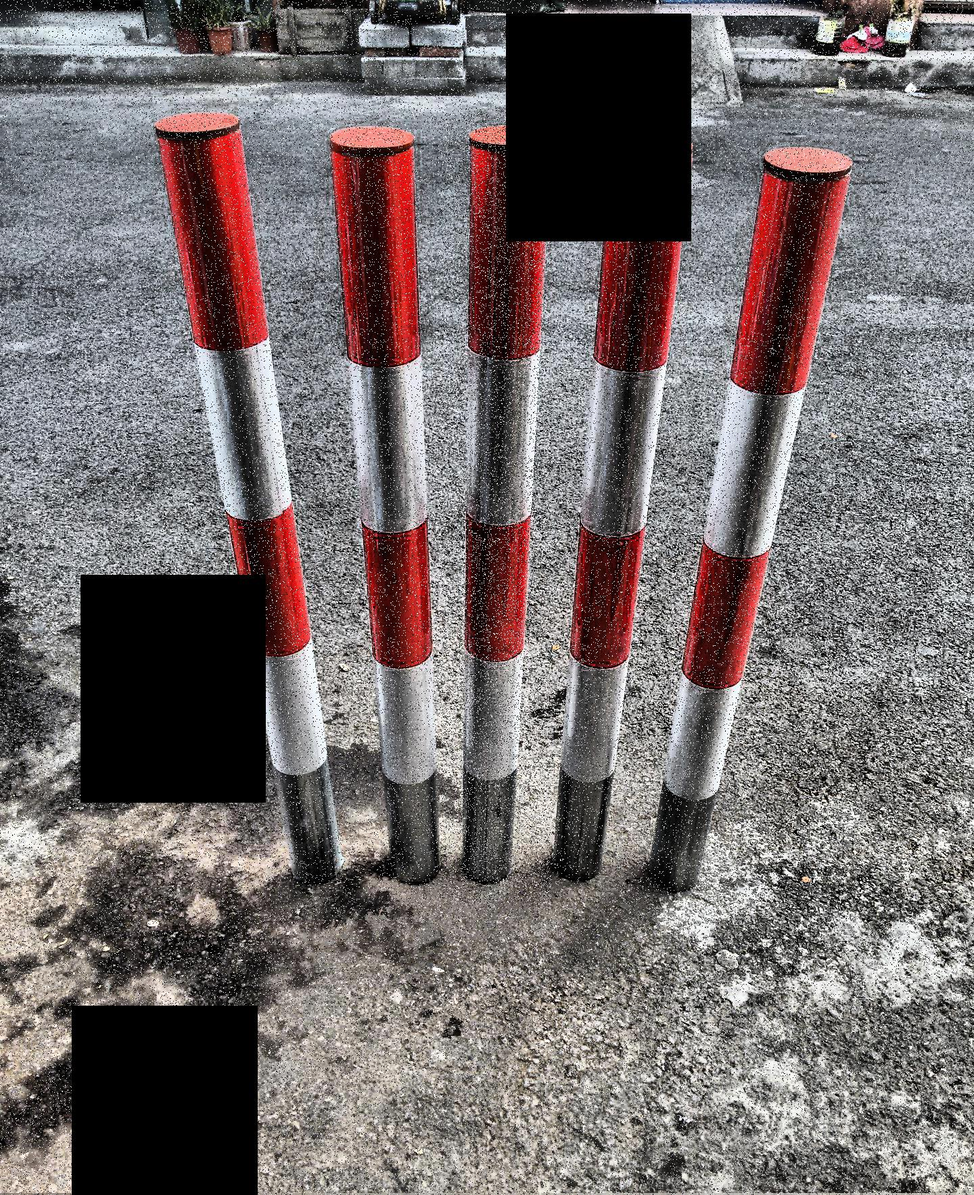bench: (441, 113, 551, 905)
